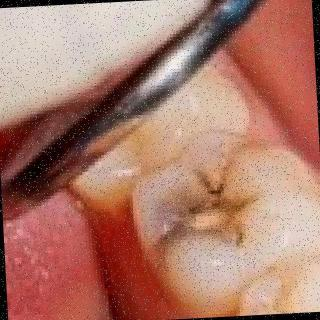cavities: (129, 160, 265, 269)
